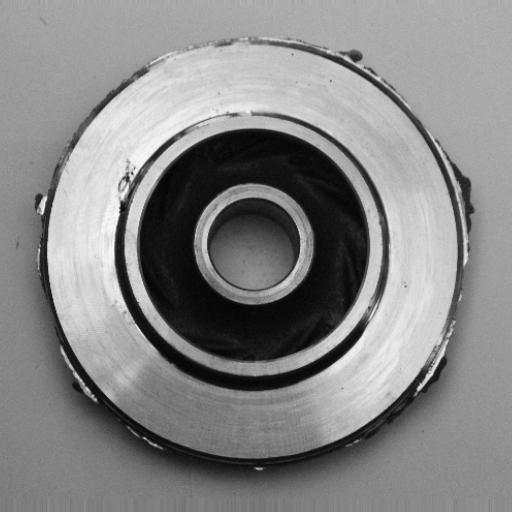casting_with_burr: (27, 31, 480, 475)
crack: (102, 148, 152, 220)
scratch: (180, 102, 266, 136)
